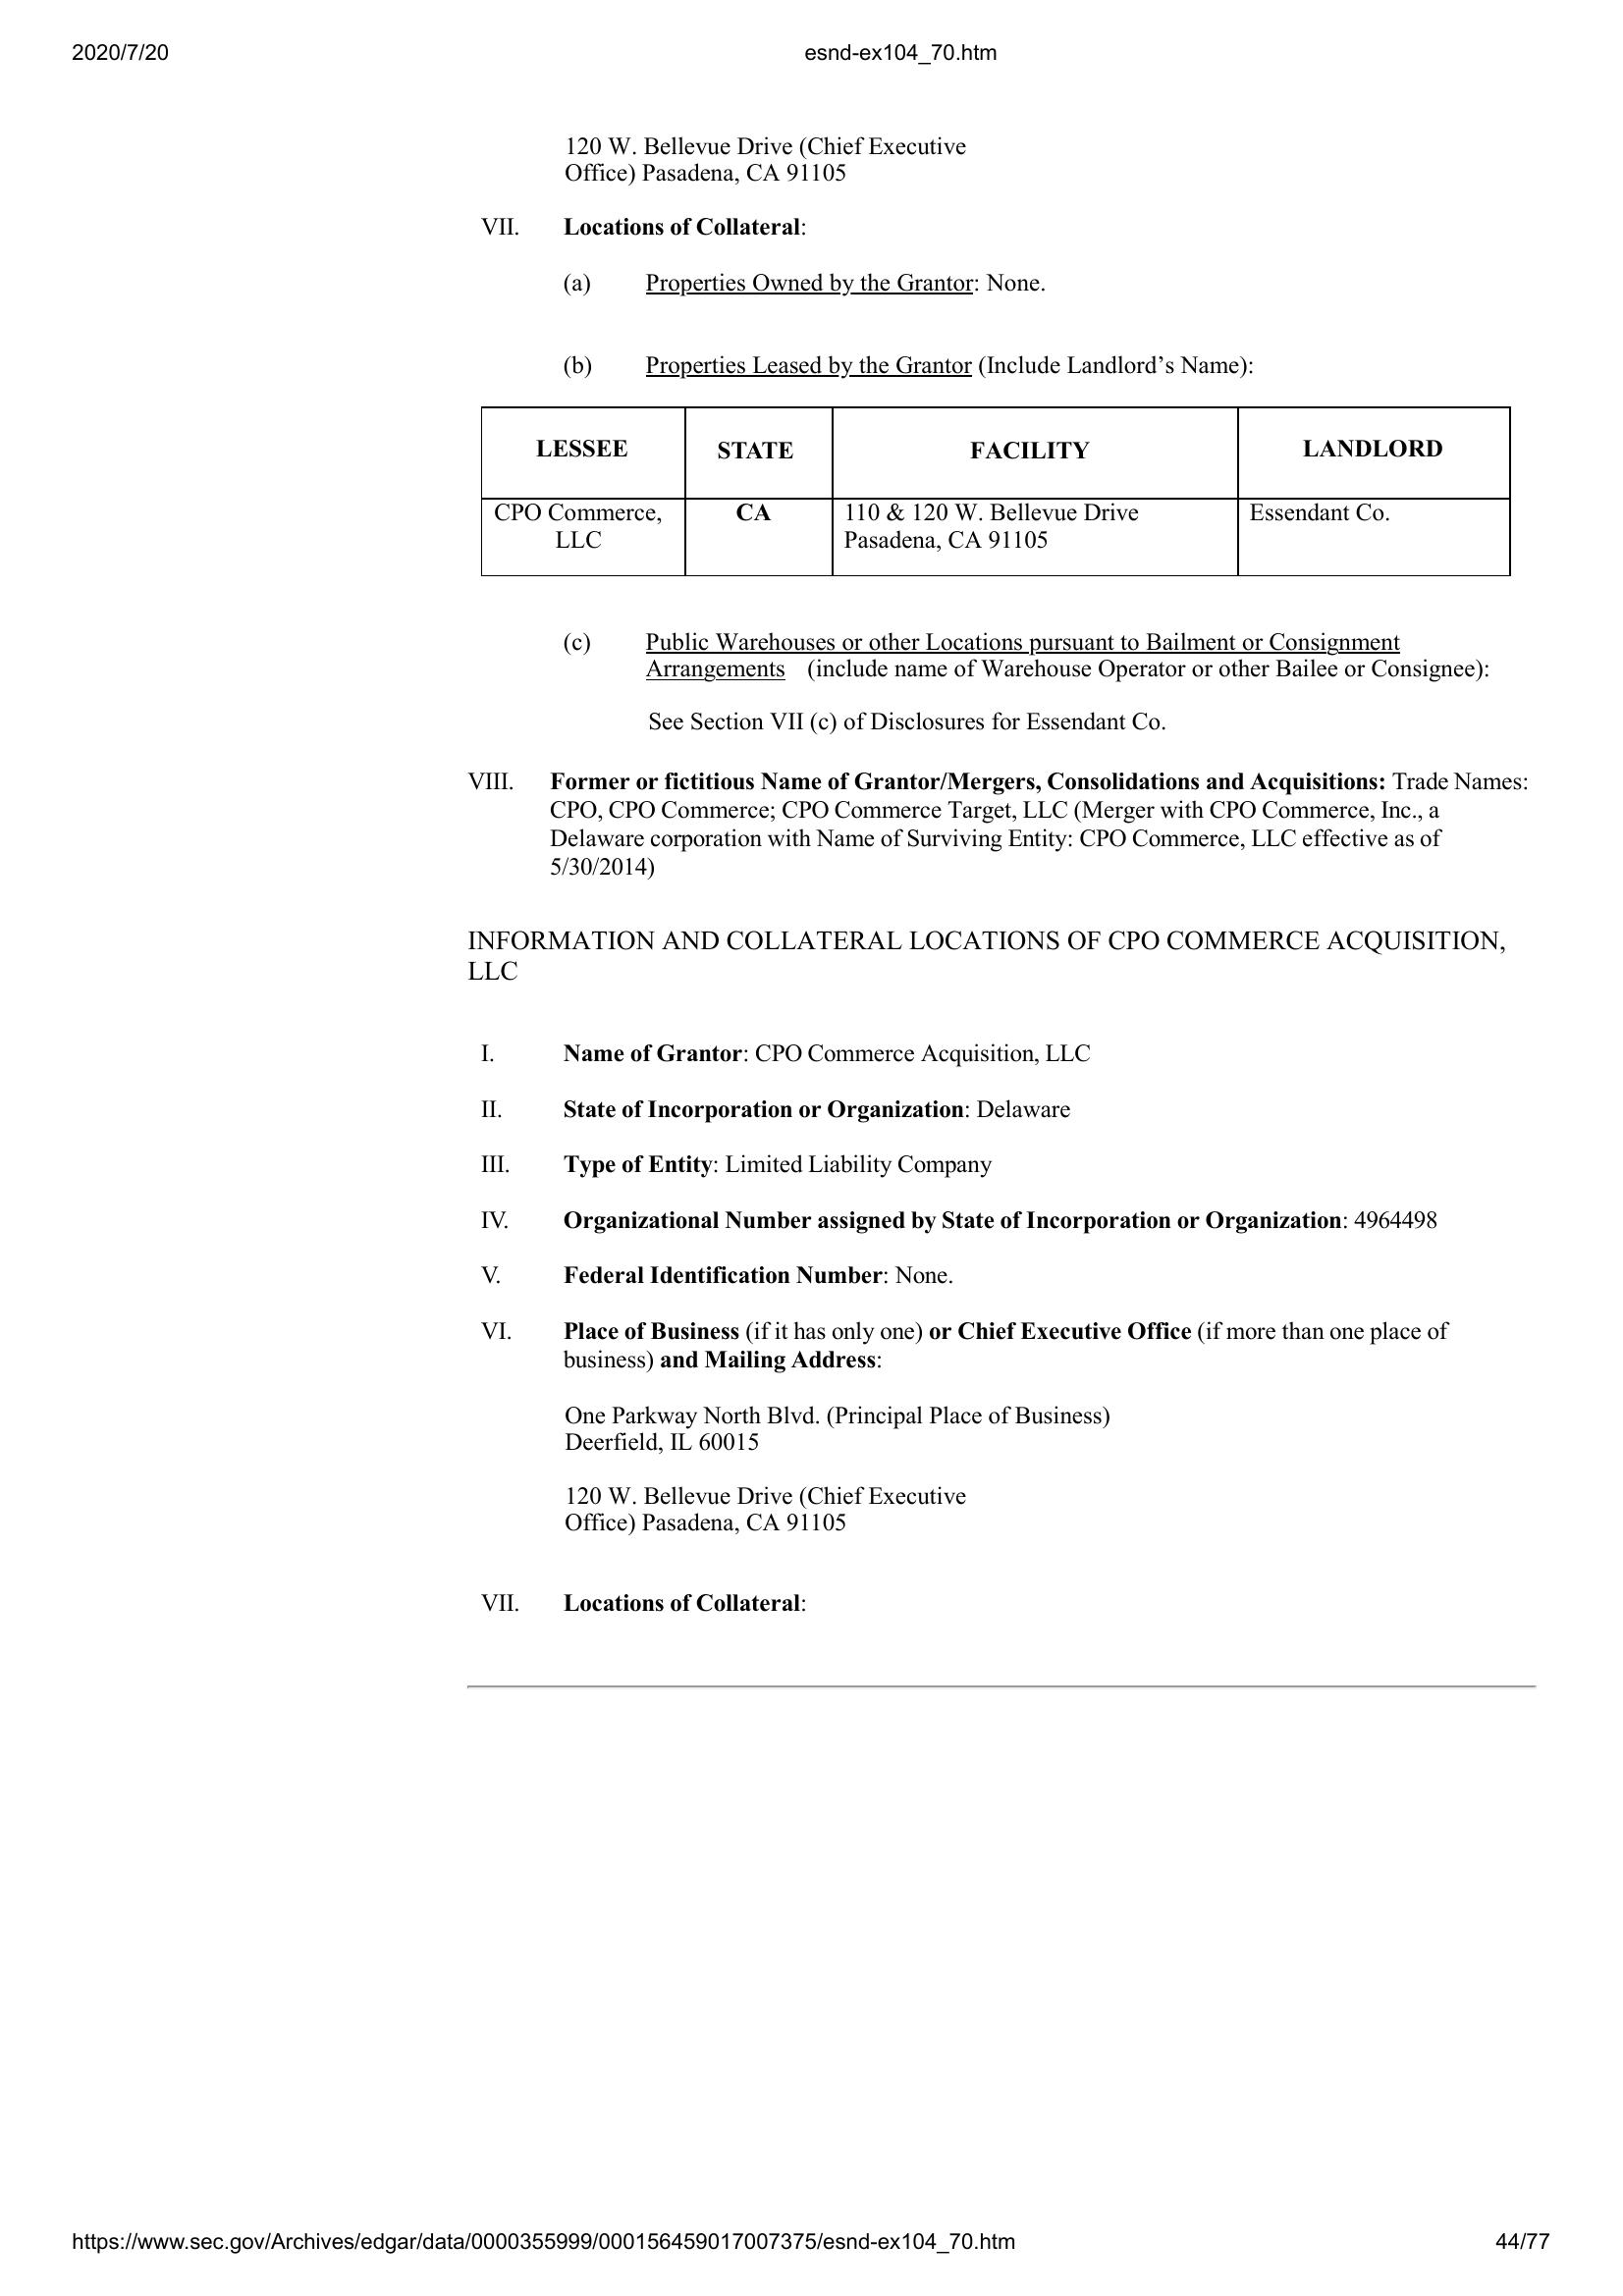table: (478, 402, 1521, 579)
